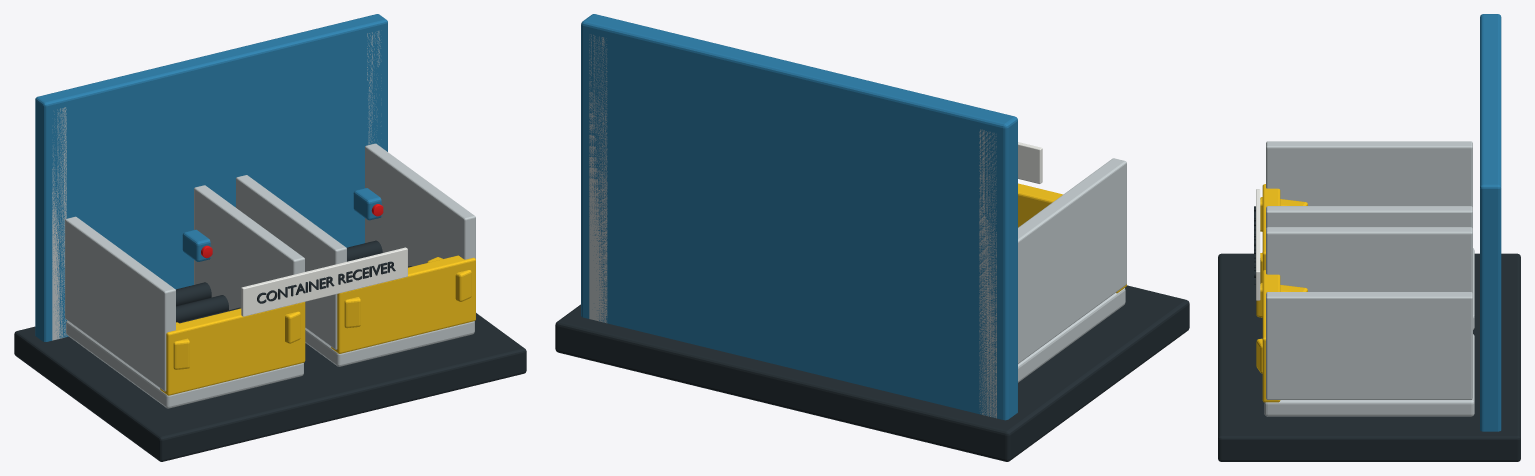
File: two_position_container_receiver.glb
3 renders of one model, left to right at view 1: azimuth 30°, elevation 25°; view 2: azimuth 150°, elevation 25°; view 3: azimuth 270°, elevation 25°, orthographic. The views are drawn at different scales.
Visible parts, largest first — view 1: BACKSTOP, RECEIVER_BASE, GUIDE_-0.57_-0.43, GUIDE_0.57_0.43, FRONT_STOP_-0.57, FRONT_STOP_0.57, GUIDE_-0.57_0.43, GUIDE_0.57_-0.43, RECEIVER_NAMEPLATE, TRAY_-0.57, BACKSTOP_POST_-1.05, TRAY_0.57 (+6 smaller); view 2: BACKSTOP, RECEIVER_BASE, GUIDE_-0.57_-0.43, BACKSTOP_POST_1.05, BACKSTOP_POST_-1.05, TRAY_-0.57, FRONT_STOP_-0.57, RECEIVER_NAMEPLATE; view 3: RECEIVER_BASE, GUIDE_0.57_0.43, GUIDE_-0.57_-0.43, GUIDE_0.57_-0.43, BACKSTOP, GUIDE_-0.57_0.43, TRAY_0.57, FRONT_STOP_0.57, FRONT_STOP_-0.57, RECEIVER_NAMEPLATE, DOCK_FUNNEL_L_right.
Part boxes in pixels (x1,y1,x2,y2): BACKSTOP: (35, 14, 387, 341); RECEIVER_BASE: (14, 313, 526, 461); GUIDE_-0.57_-0.43: (65, 216, 175, 391); GUIDE_0.57_0.43: (365, 143, 475, 266); FRONT_STOP_-0.57: (160, 302, 305, 395); FRONT_STOP_0.57: (331, 255, 475, 353); GUIDE_-0.57_0.43: (194, 185, 304, 309); GUIDE_0.57_-0.43: (236, 175, 346, 349); RECEIVER_NAMEPLATE: (241, 247, 407, 316); TRAY_-0.57: (66, 320, 303, 408); BACKSTOP_POST_-1.05: (52, 107, 66, 340); TRAY_0.57: (305, 321, 474, 366); BACKSTOP: (581, 14, 1017, 420); RECEIVER_BASE: (555, 285, 1189, 461); GUIDE_-0.57_-0.43: (1018, 158, 1126, 363); BACKSTOP_POST_1.05: (589, 34, 607, 323); BACKSTOP_POST_-1.05: (979, 129, 996, 418); TRAY_-0.57: (1018, 288, 1125, 382); FRONT_STOP_-0.57: (1018, 183, 1126, 293); RECEIVER_NAMEPLATE: (1018, 142, 1042, 183); RECEIVER_BASE: (1218, 253, 1520, 461); GUIDE_0.57_0.43: (1266, 292, 1472, 399); GUIDE_-0.57_-0.43: (1266, 141, 1472, 207); GUIDE_0.57_-0.43: (1266, 227, 1472, 293); BACKSTOP: (1480, 14, 1501, 431); GUIDE_-0.57_0.43: (1266, 206, 1472, 228); TRAY_0.57: (1264, 334, 1474, 416); FRONT_STOP_0.57: (1262, 270, 1280, 402); FRONT_STOP_-0.57: (1262, 184, 1280, 270); RECEIVER_NAMEPLATE: (1256, 189, 1260, 300); DOCK_FUNNEL_L_right: (1256, 282, 1307, 317).
Size of the model in its own units: 2.45 by 1.68 by 1.7.
